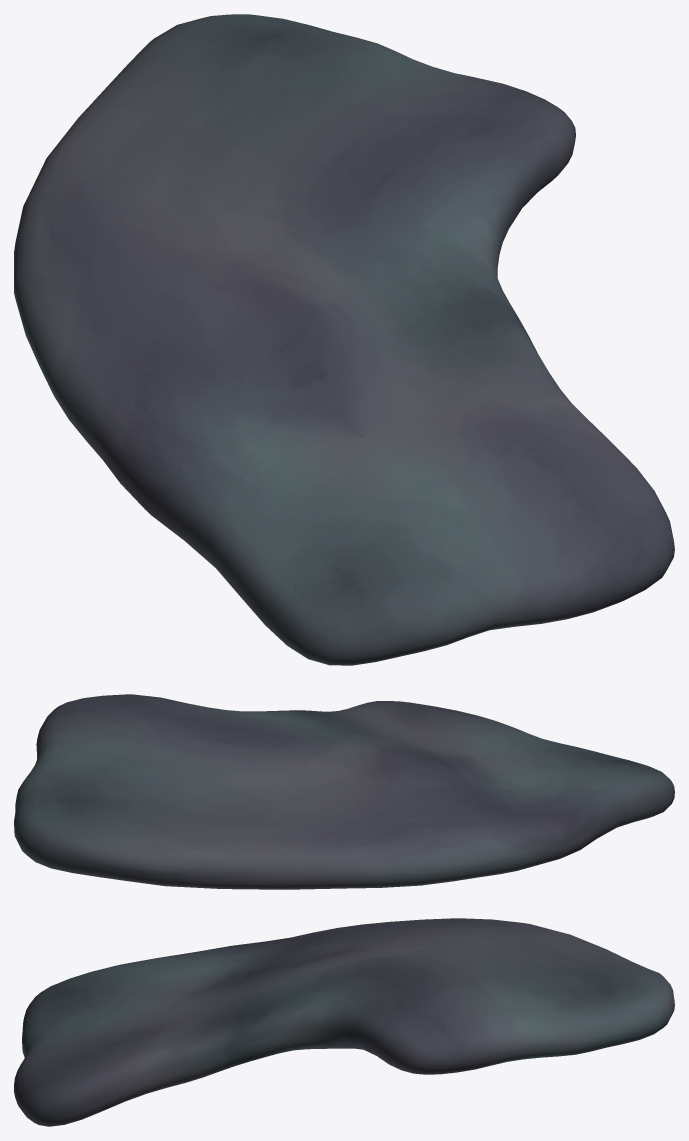
Rendered from RockFlatRampCurve.fbx.
3 renders of one model, top to bottom at view 1: azimuth 30°, elevation 25°; view 2: azimuth 150°, elevation 25°; view 3: azimuth 270°, elevation 25°, orthographic. The views are drawn at different scales.
Parts seen in each view (by area): view 1: RockFlatRampCurve; view 2: RockFlatRampCurve; view 3: RockFlatRampCurve.
Part boxes in pixels (left/top/right/bottom): RockFlatRampCurve: left=14, top=14, right=674, bottom=665; RockFlatRampCurve: left=14, top=694, right=674, bottom=889; RockFlatRampCurve: left=14, top=918, right=674, bottom=1126.
Bounding box in the file's own units: 321 × 130 × 481.
1 material, 1 textured.
